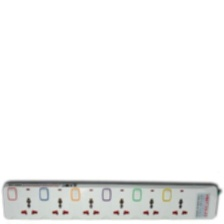three_eye_plug: (1, 179, 223, 221)
